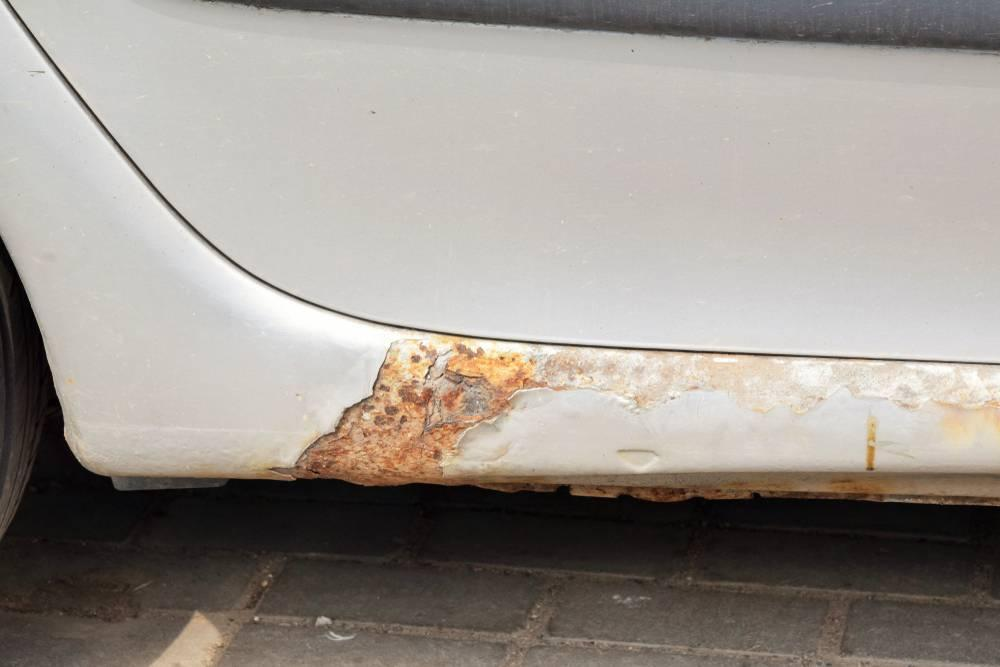corrosion: (245, 324, 1000, 516)
